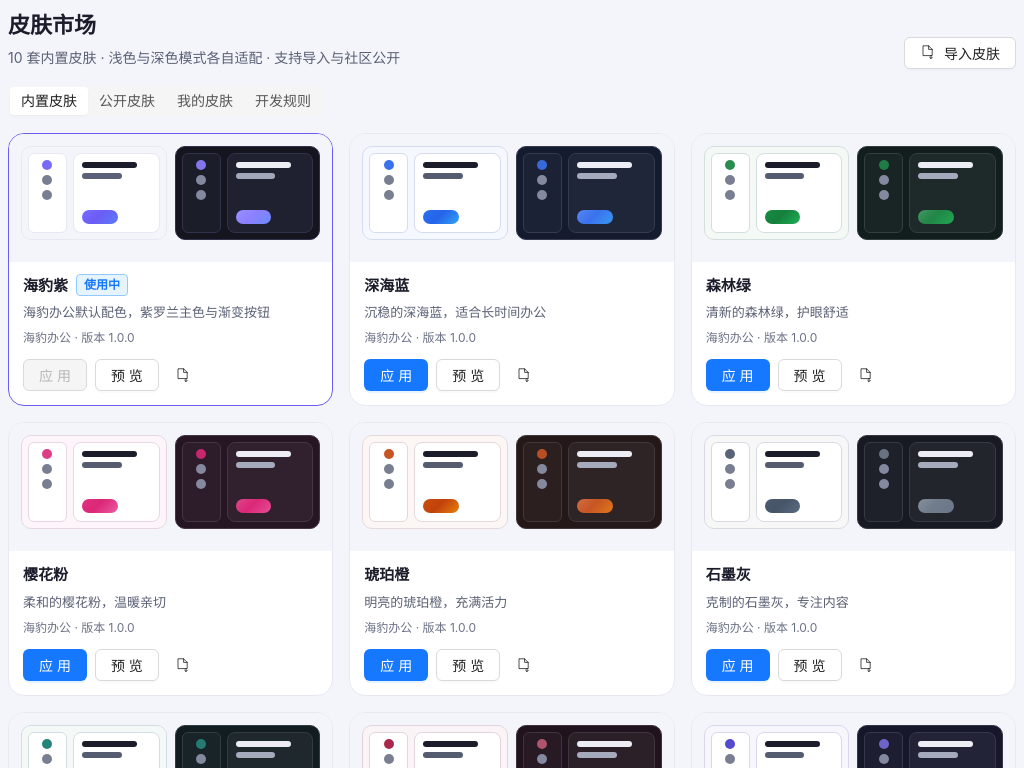
Test: 皮肤市场 › 未开通云空间时上传公开会提示先登录开通
This screenshot has width=1024, height=768.
Click the radio button labelled "我的皮肤".
click(205, 100)  # box [177,92,233,109]
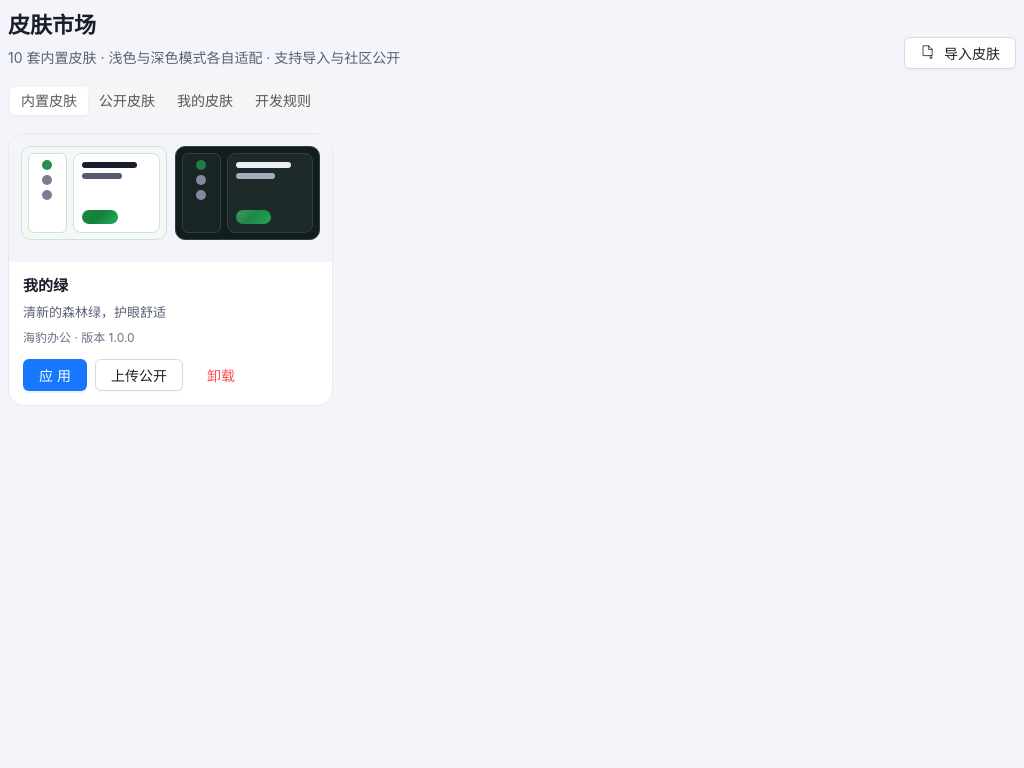
Click the button with aria-label "上传并申请公开 我的绿".
click(139, 376)  # box [95,360,183,392]
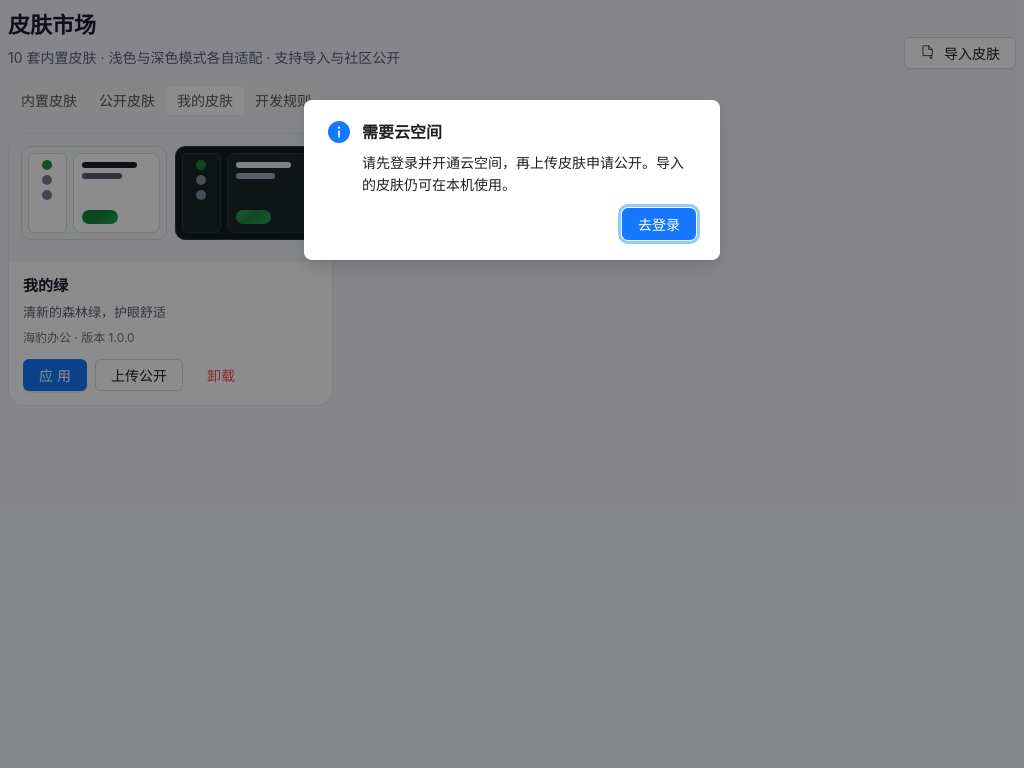
Expected: the text "请先登录并开通云空间" is shown, [362,154,684,193]
